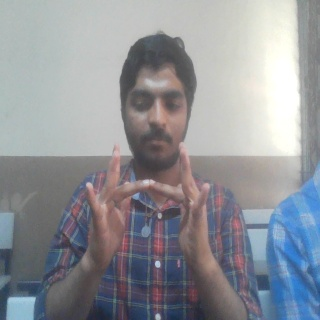Internet: (81, 140, 212, 268)
